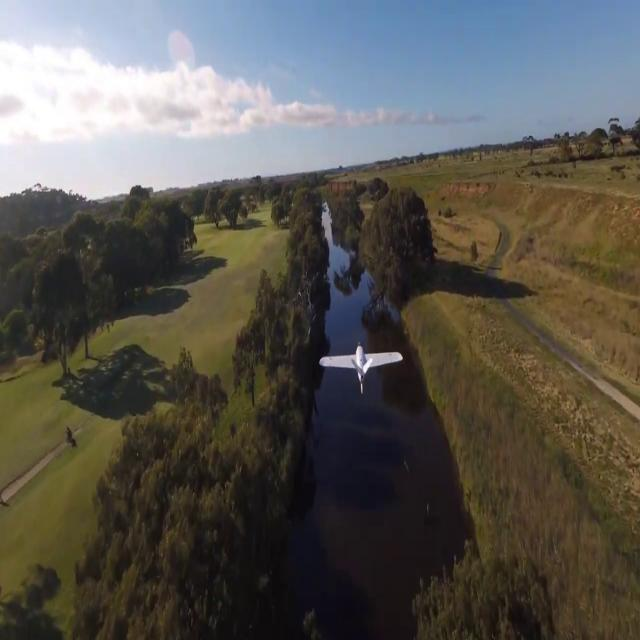iha: (348, 344, 374, 395)
